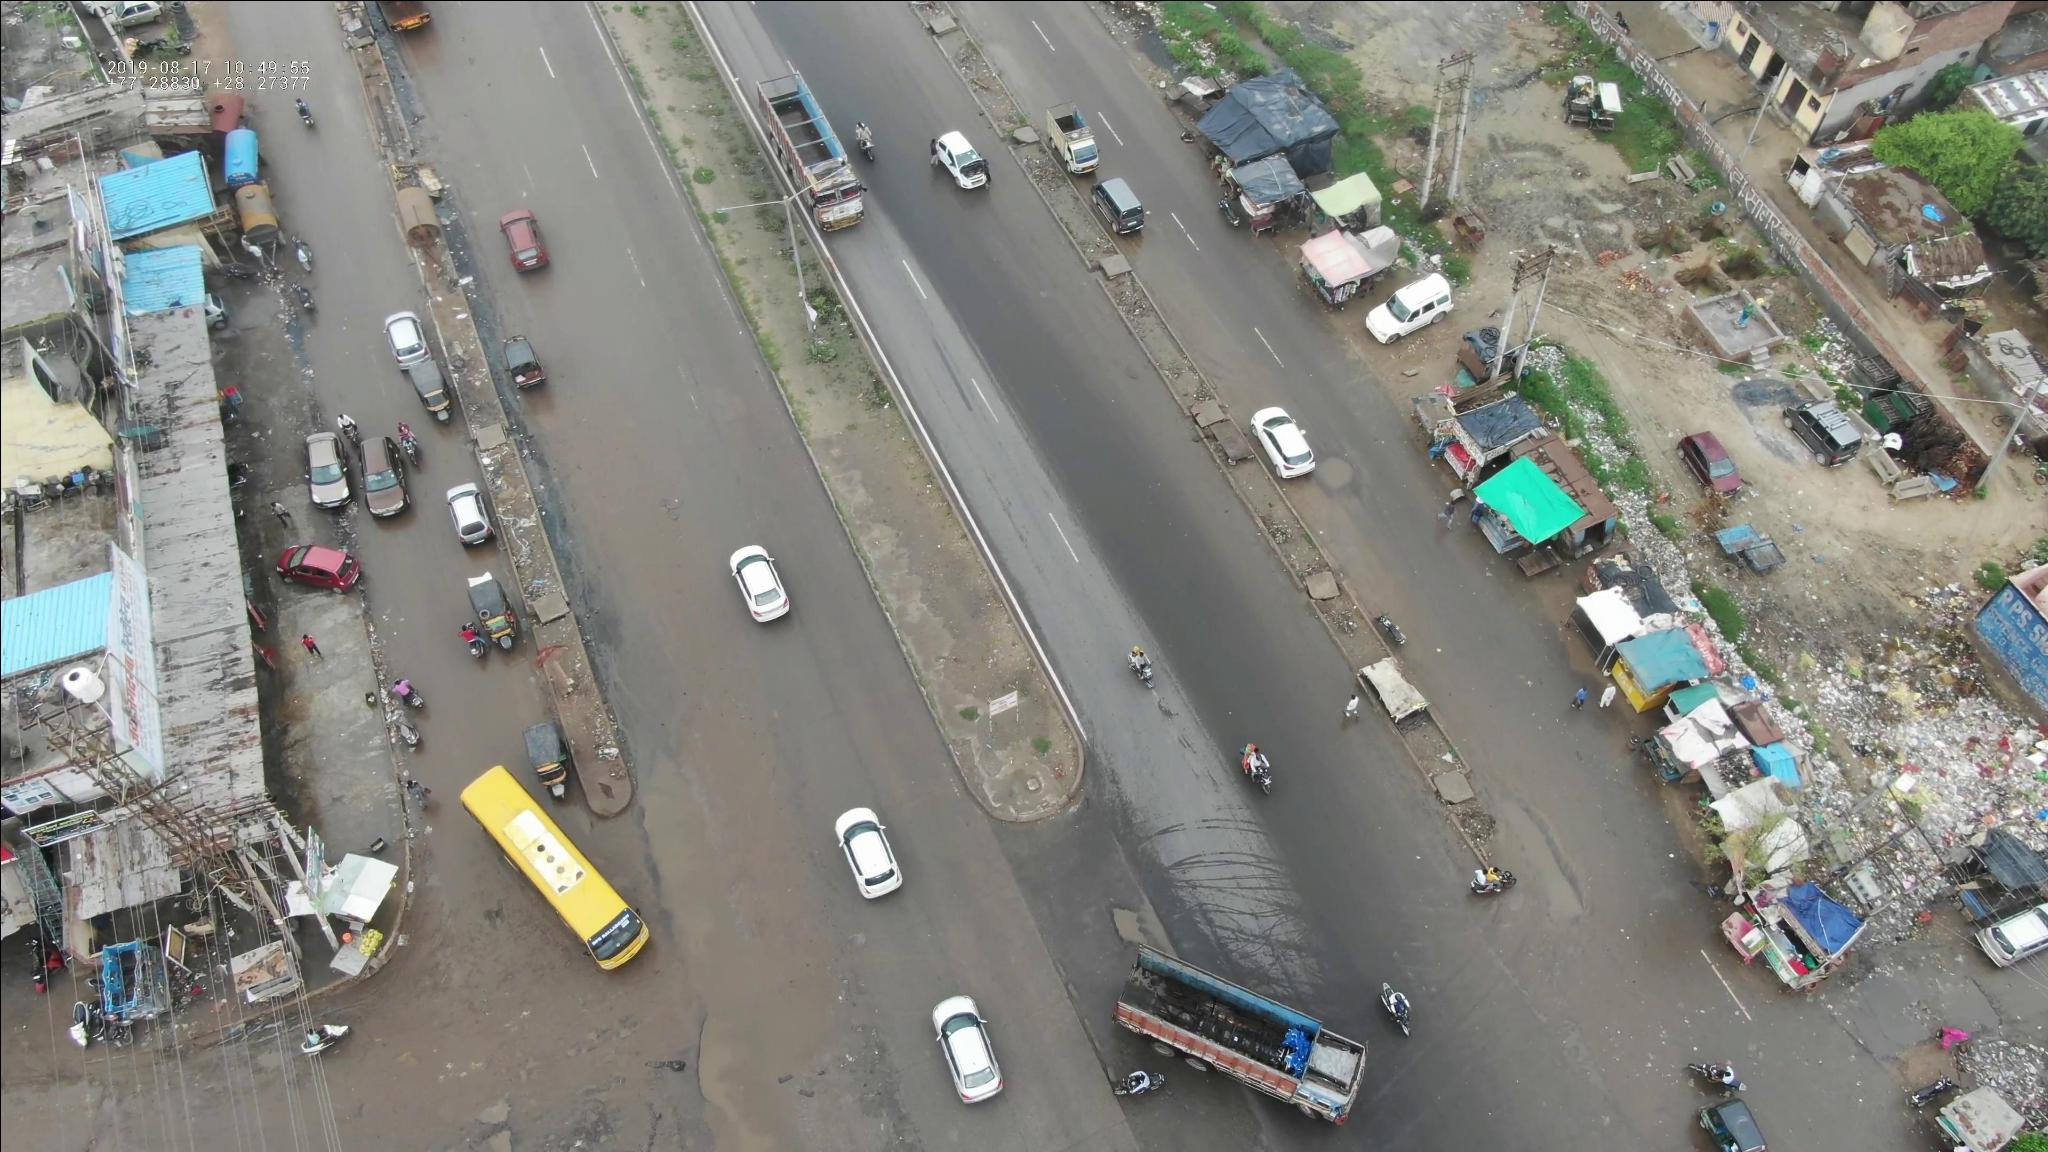Road_side_garbage: (1847, 672, 2045, 813)
